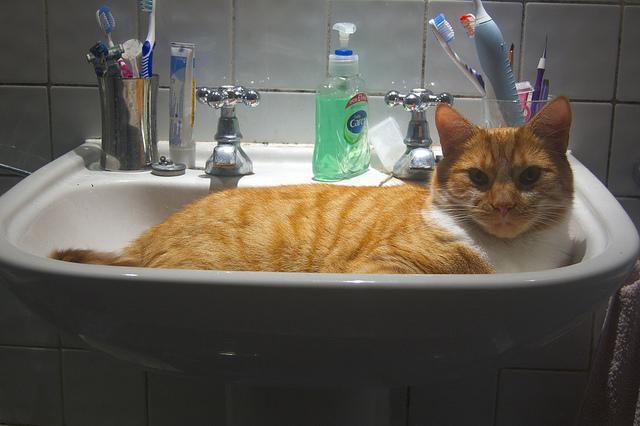Lavamanos: (0, 113, 639, 396)
Otro Obstaculo: (56, 126, 593, 303)
